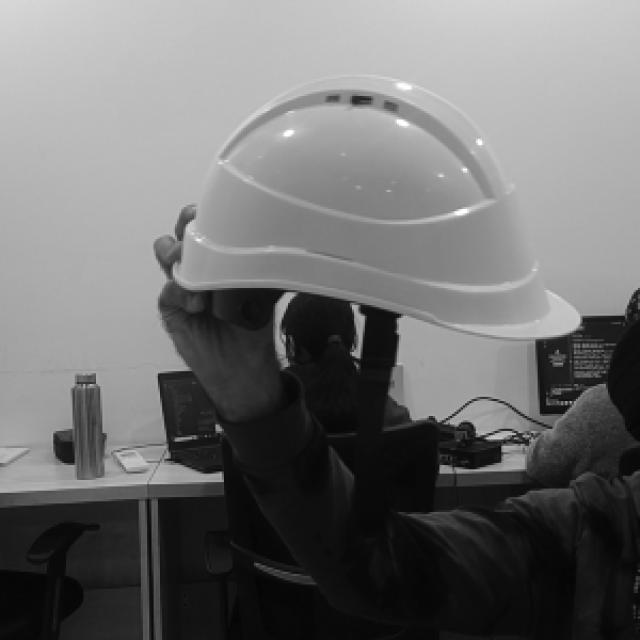safety_helmet: (172, 76, 583, 340)
